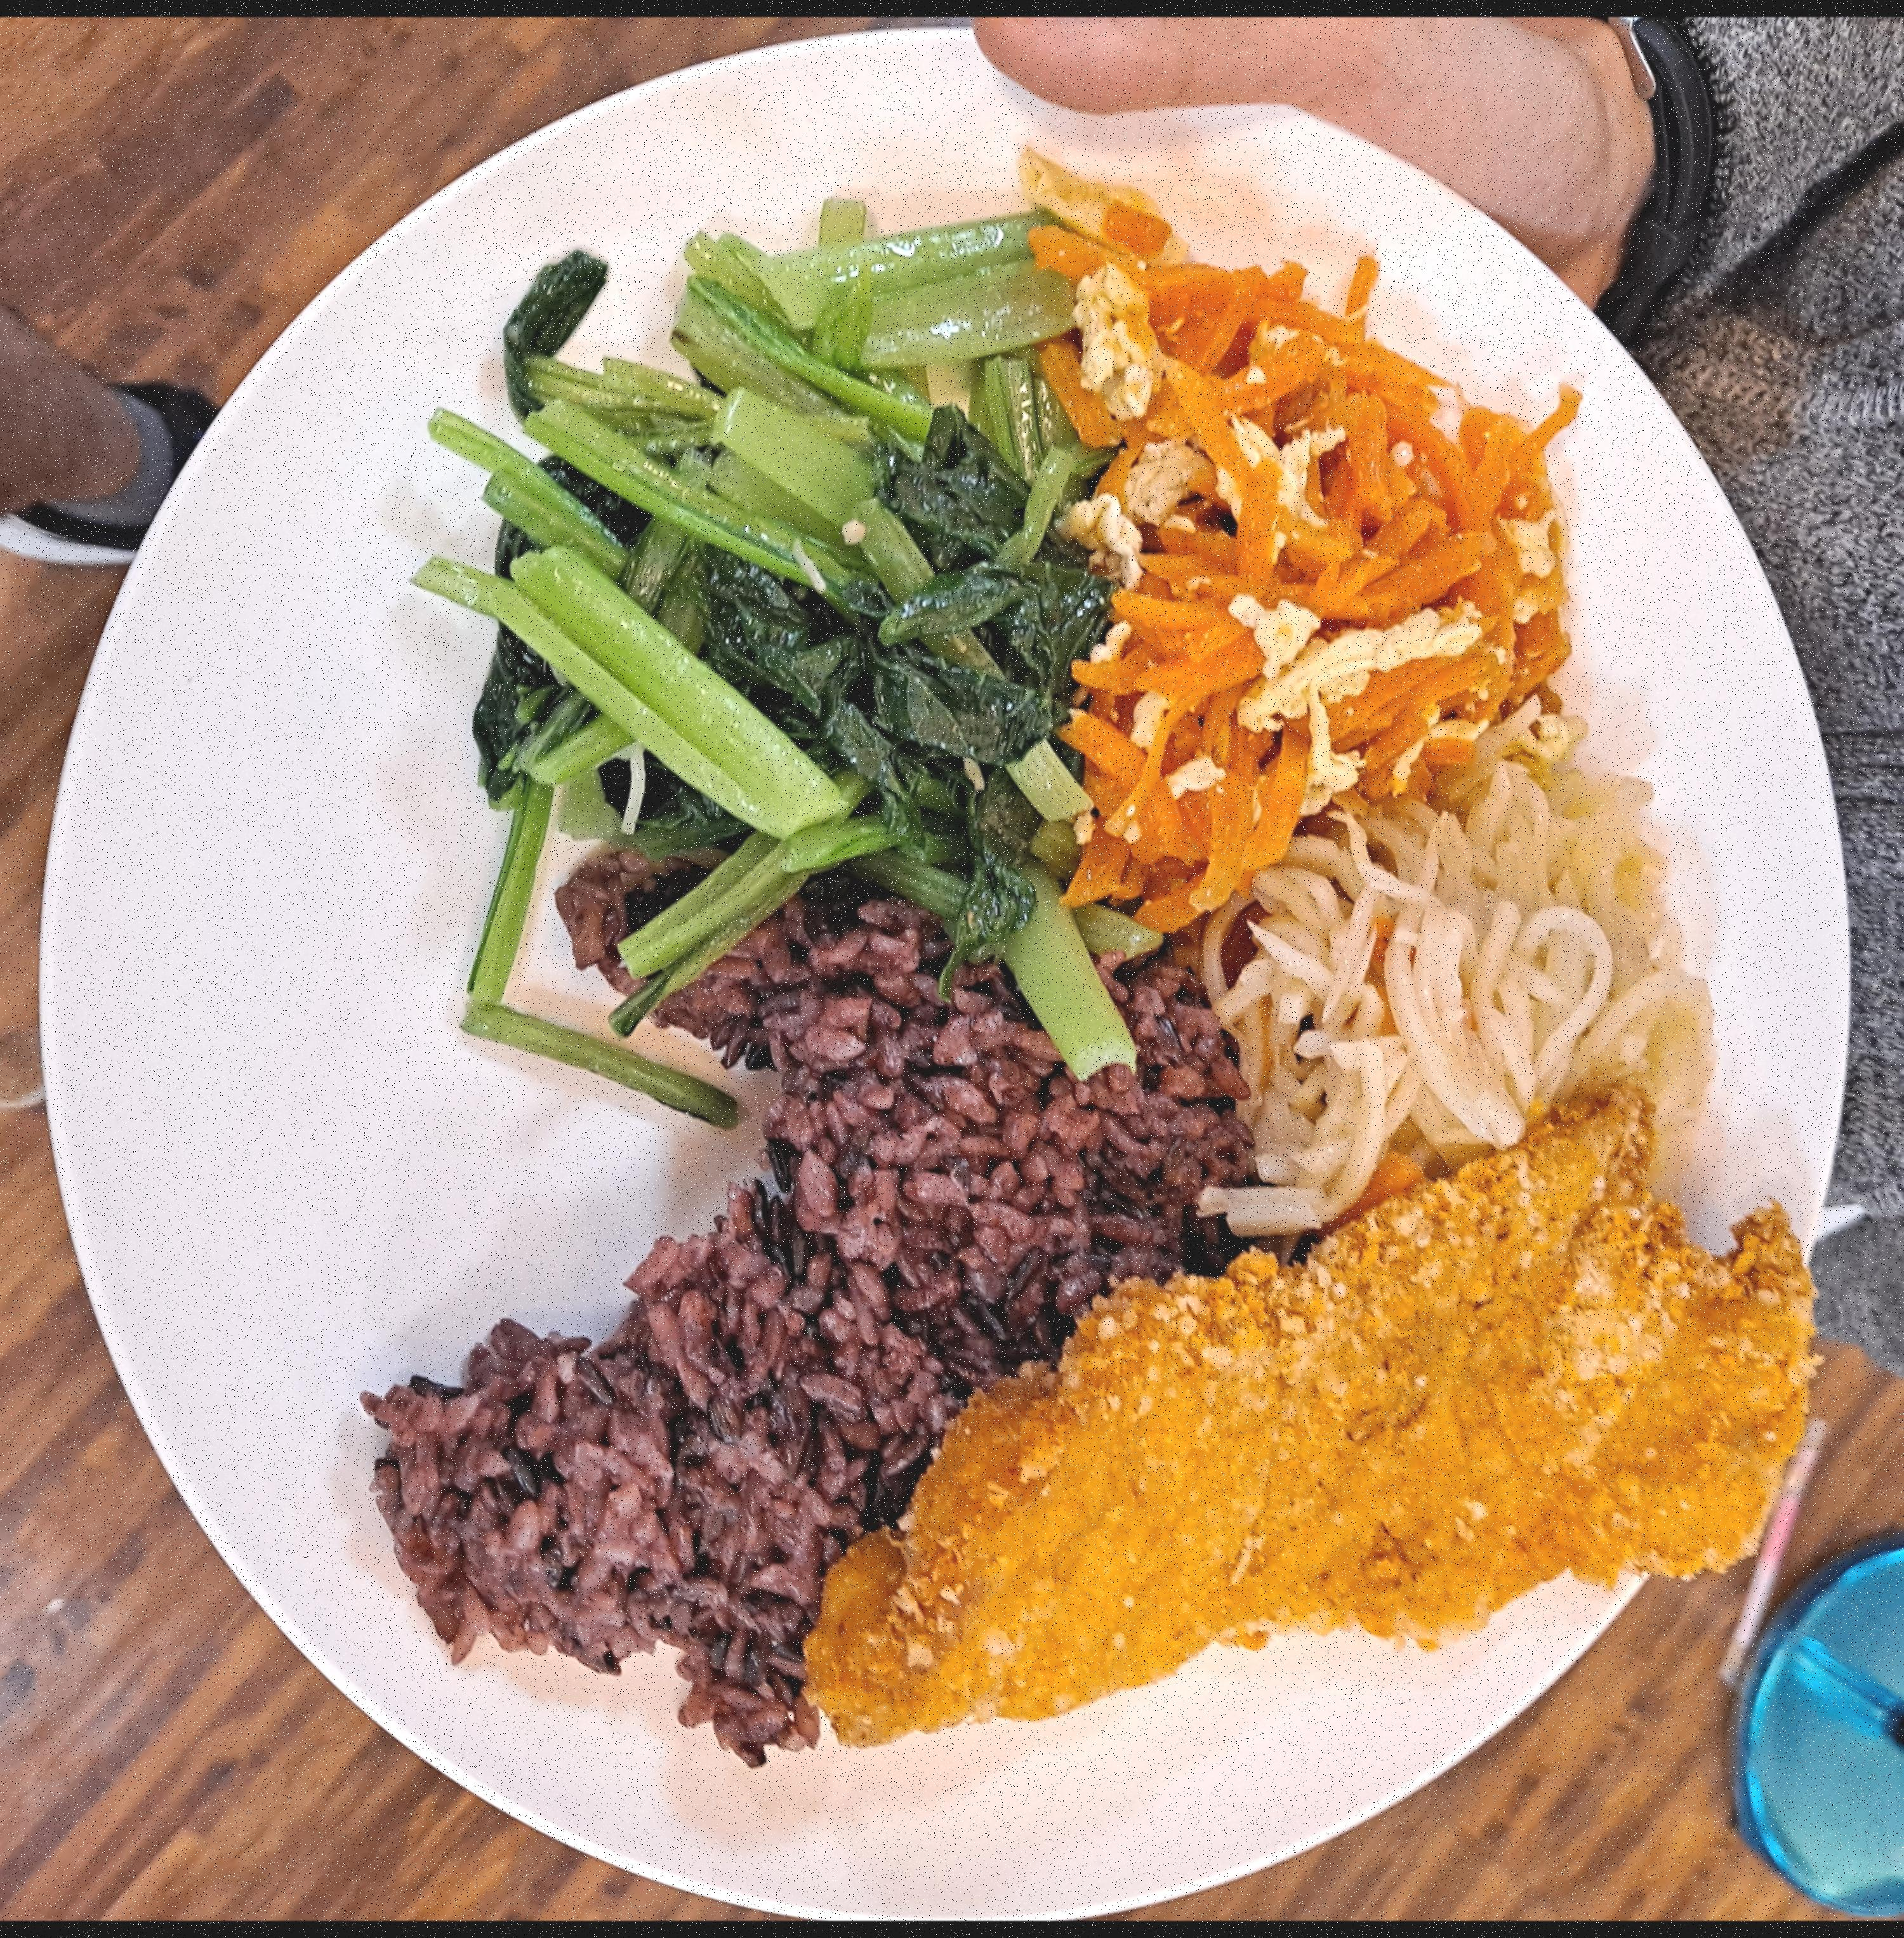chicken steak: (1156, 1375, 1860, 1839)
plate: (633, 645, 1895, 1903)
purple rice: (872, 1243, 1486, 1832)
side dish: (929, 746, 1384, 1316), (1344, 783, 1703, 1260), (1430, 1119, 1766, 1467)
